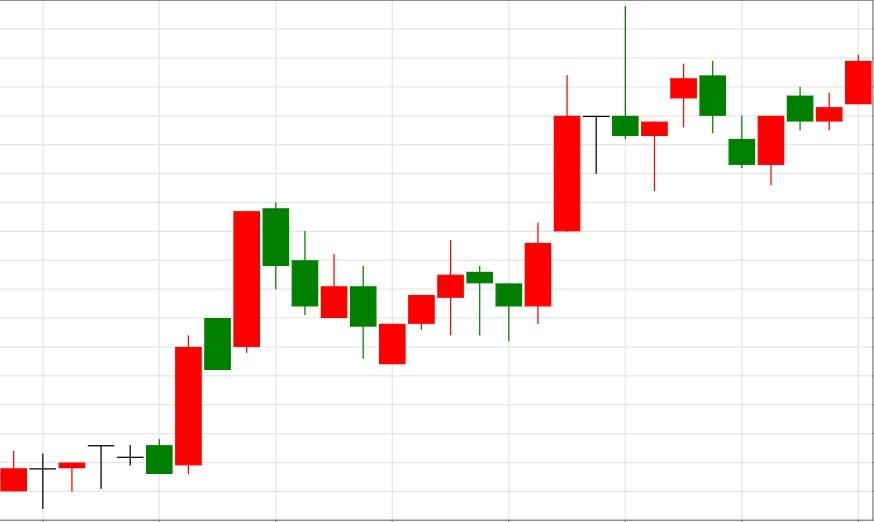bearish_engulfing_fall: (495, 7, 727, 341)
shooting_star_fall: (495, 7, 639, 341)
three_white_soldiers_rise: (262, 202, 465, 366)
